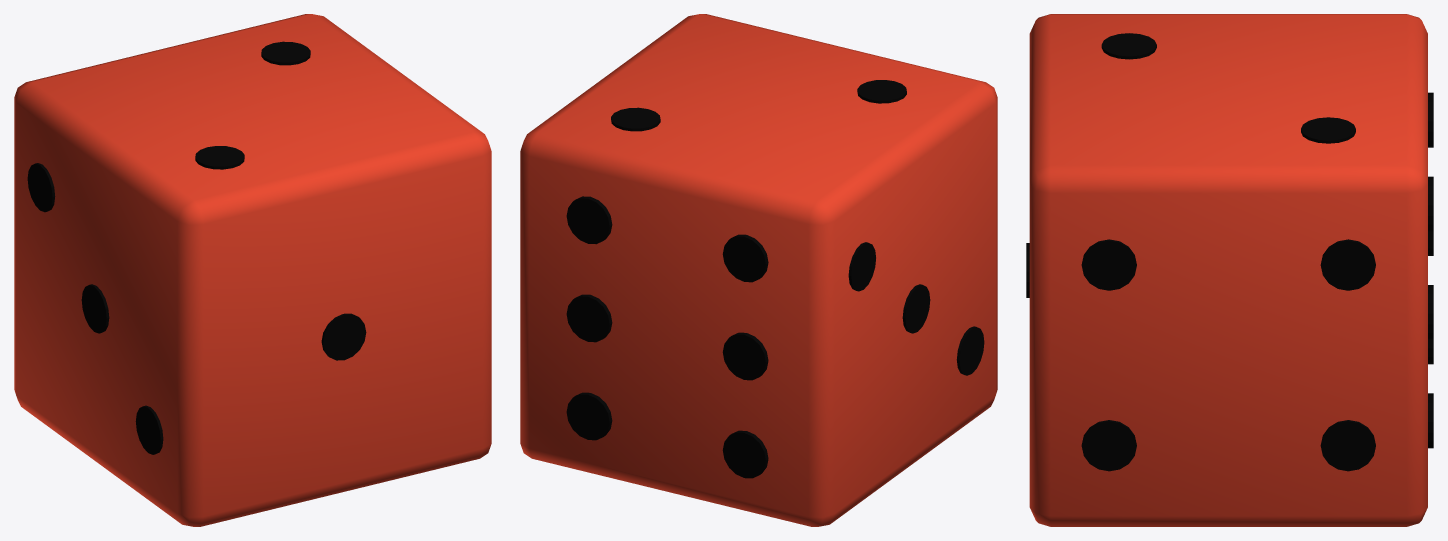
File: dice.fbx
3 views of the same model, side by side, from view 1: azimuth 30°, elevation 25°; view 2: azimuth 150°, elevation 25°; view 3: azimuth 270°, elevation 25° (orthographic). The views are drawn at different scales.
Parts seen in each view (by area): view 1: Cube.001; view 2: Cube.001; view 3: Cube.001.
Boxes of the visible parts, x1,y1,x2,y2 form: Cube.001: (14, 14, 491, 526); Cube.001: (520, 14, 997, 526); Cube.001: (1026, 14, 1433, 526).
Size of the model in its own units: 203 by 203 by 205.
